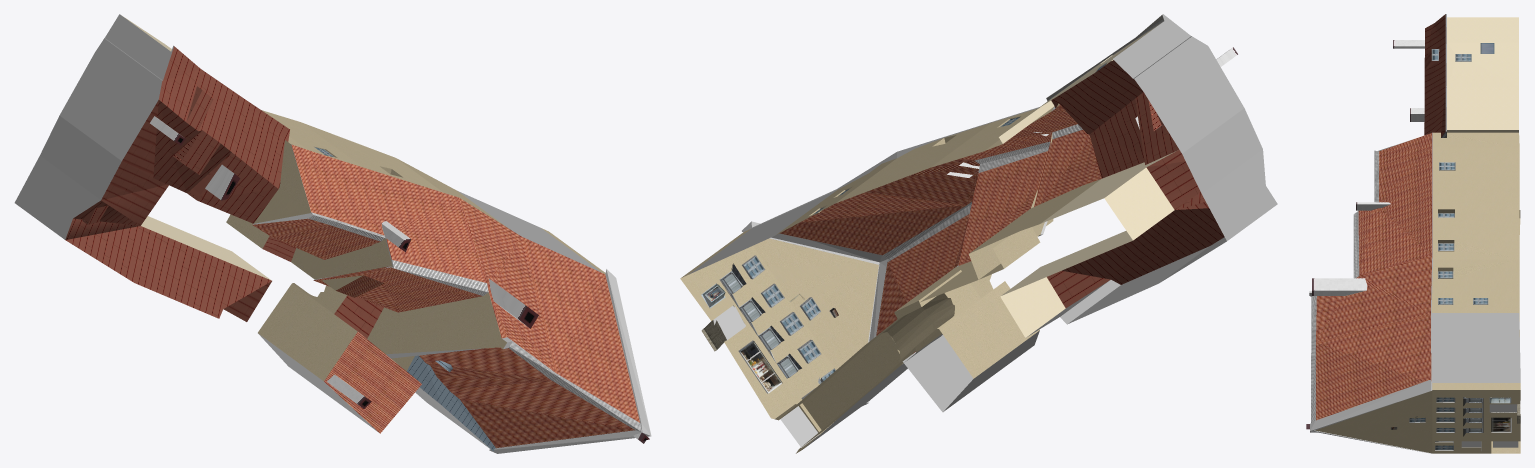
The model's file is Pikk_15-origo.obj.
The picture shows the model from 3 angles, left to right: view 1: azimuth 30°, elevation 25°; view 2: azimuth 150°, elevation 25°; view 3: azimuth 270°, elevation 25°; orthographic projection. The views are drawn at different scales.
Parts seen in each view (by area): view 1: Pikk_15; view 2: Pikk_15; view 3: Pikk_15.
Boxes of the visible parts, left/top/right/bottom form: Pikk_15: left=14, top=14, right=651, bottom=453; Pikk_15: left=680, top=14, right=1277, bottom=453; Pikk_15: left=1306, top=14, right=1520, bottom=453.
Size of the model in its own units: 48.31 by 40.5 by 23.68.
